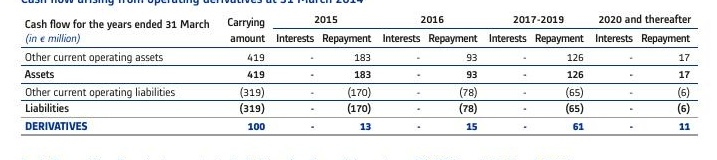table: (0, 0, 717, 160)
